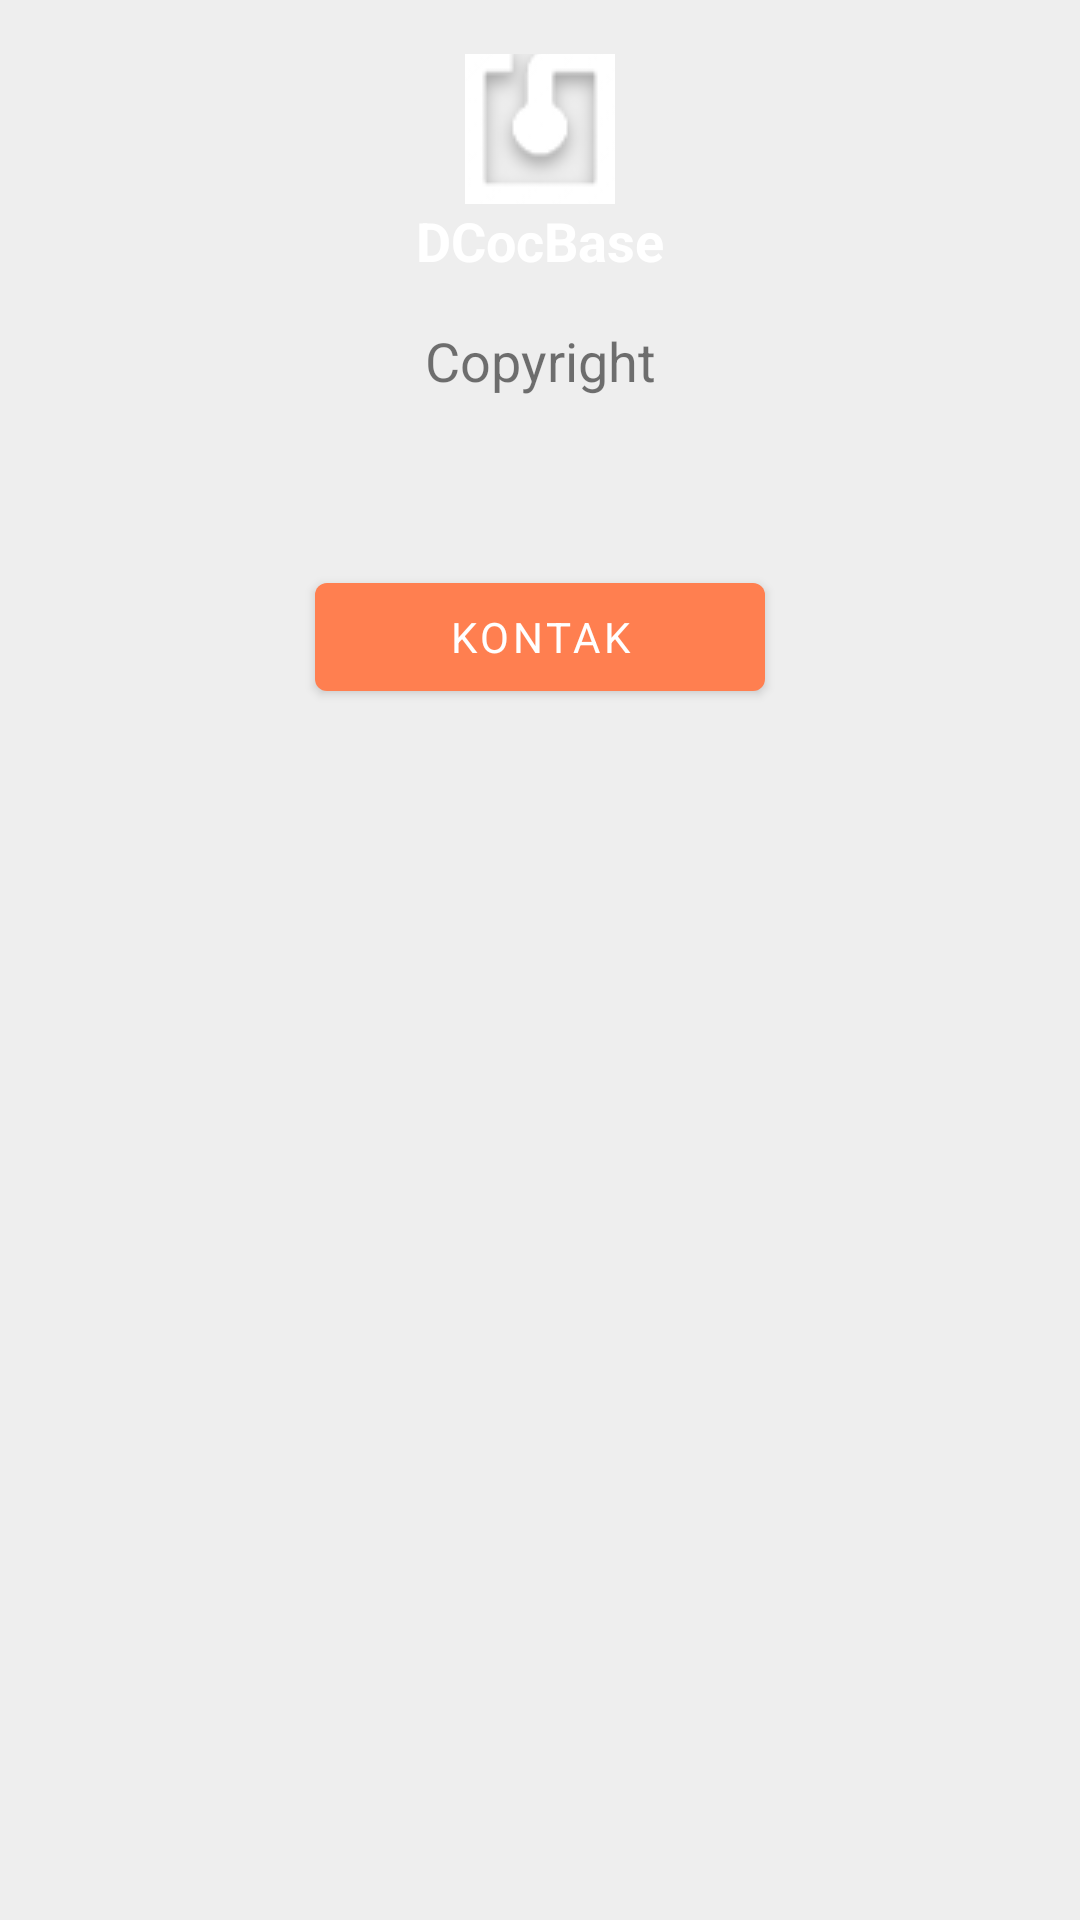

Named icons in this screenshot (1080 x 1920) and their bounding boxes, (x1, y1, x2, y2):
app: (465, 54, 615, 204)
